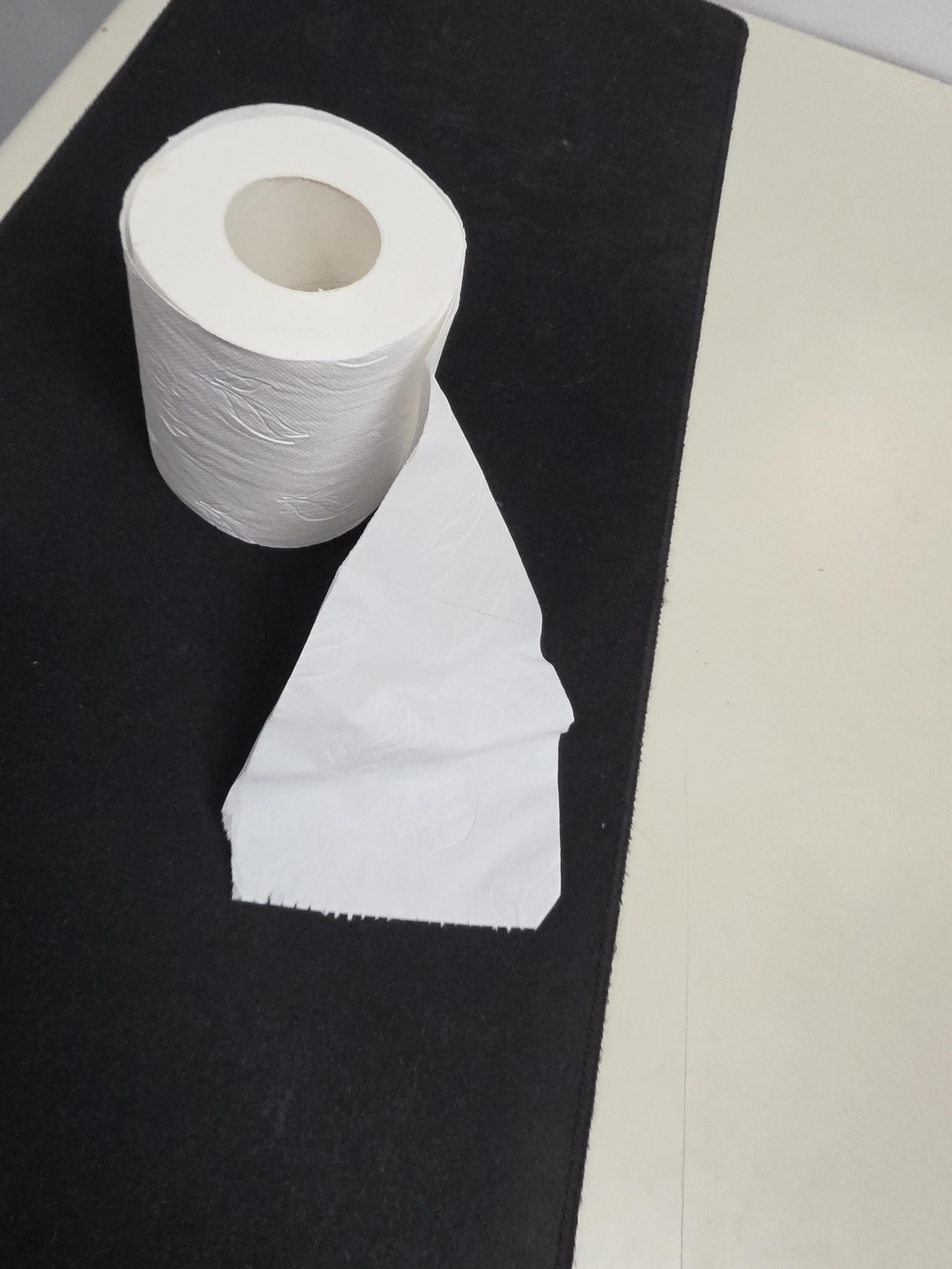tissue: (118, 102, 576, 931)
